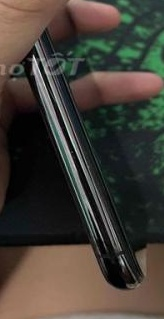scratch: (64, 141, 100, 180)
